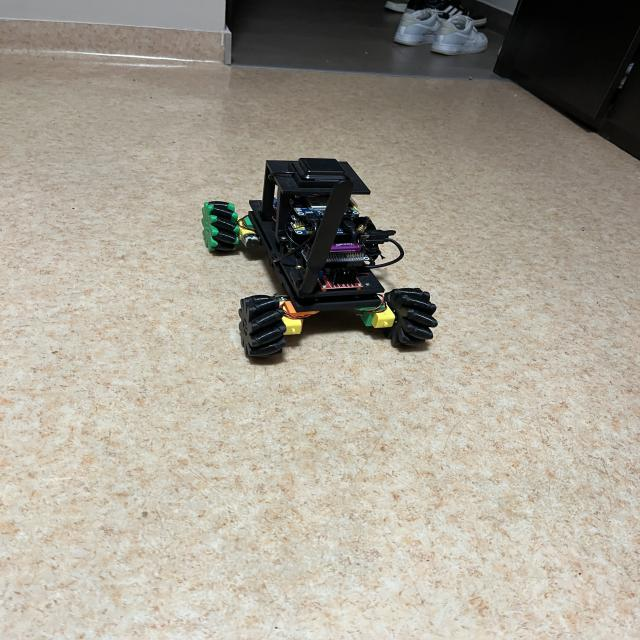robot: (202, 158, 437, 357)
